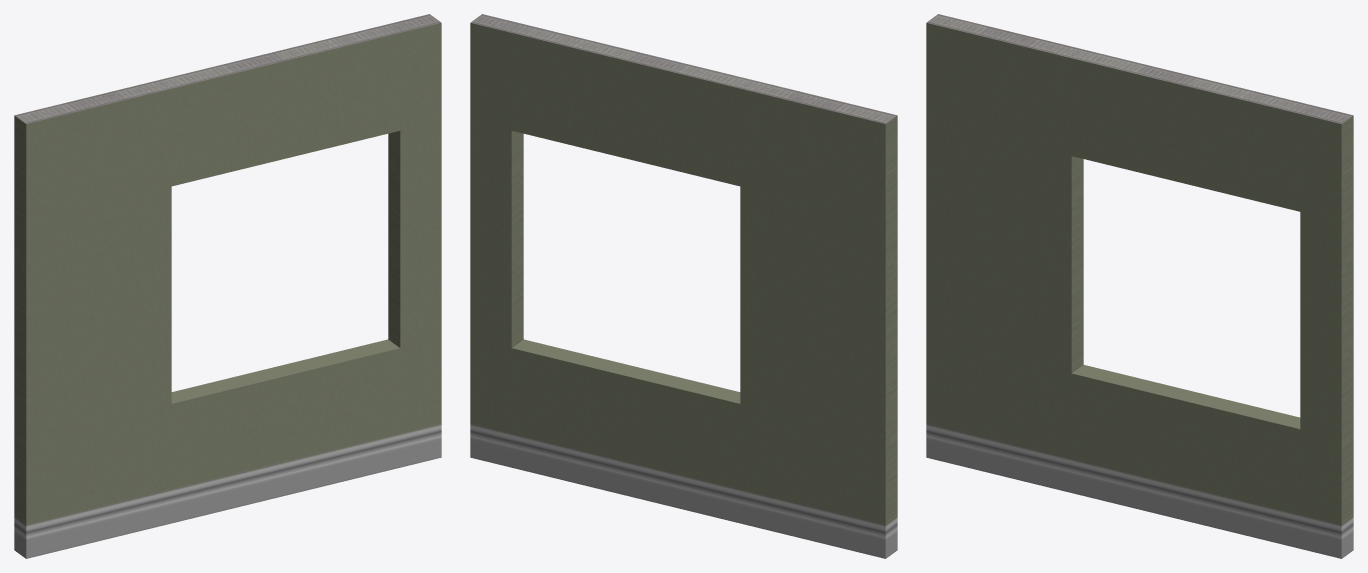
The model's file is wall3_5.fbx.
3 renders of one model, left to right at view 1: azimuth 30°, elevation 25°; view 2: azimuth 150°, elevation 25°; view 3: azimuth 330°, elevation 25°, orthographic.
Visible parts, largest first — view 1: wall3_willow_e; view 2: wall3_willow_e; view 3: wall3_willow_e.
Part boxes in pixels (<box>): wall3_willow_e: <box>14,14,441,558</box>; wall3_willow_e: <box>470,14,897,558</box>; wall3_willow_e: <box>926,14,1353,558</box>.
Size of the model in its own units: 400 by 400 by 20.
